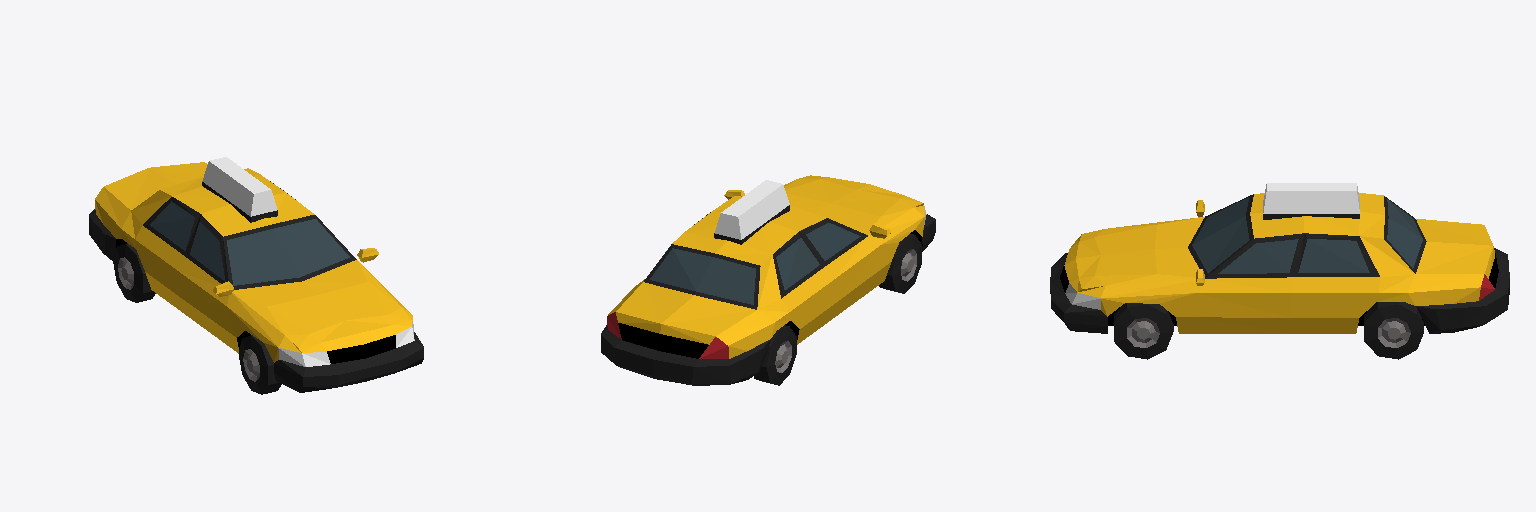
File: Car3.obj
3 renders of one model, left to right at view 1: azimuth 30°, elevation 25°; view 2: azimuth 150°, elevation 25°; view 3: azimuth 270°, elevation 25°, orthographic.
Parts seen in each view (by area): view 1: car-taxi-base, car-taxi-wheel_FR, car-taxi-wheel_BR; view 2: car-taxi-base, car-taxi-wheel_BR, car-taxi-wheel_FR; view 3: car-taxi-base, car-taxi-wheel_BL, car-taxi-wheel_FL.
Boxes of the visible parts, x1,y1,x2,y2 form: car-taxi-base: [89, 157, 423, 392]; car-taxi-wheel_FR: [239, 335, 281, 394]; car-taxi-wheel_BR: [113, 243, 155, 302]; car-taxi-base: [601, 175, 935, 385]; car-taxi-wheel_BR: [754, 325, 796, 385]; car-taxi-wheel_FR: [879, 234, 921, 293]; car-taxi-base: [1050, 183, 1509, 333]; car-taxi-wheel_BL: [1364, 302, 1423, 359]; car-taxi-wheel_FL: [1114, 303, 1173, 359].
Size of the model in its own units: 2.19 by 1.77 by 5.35.